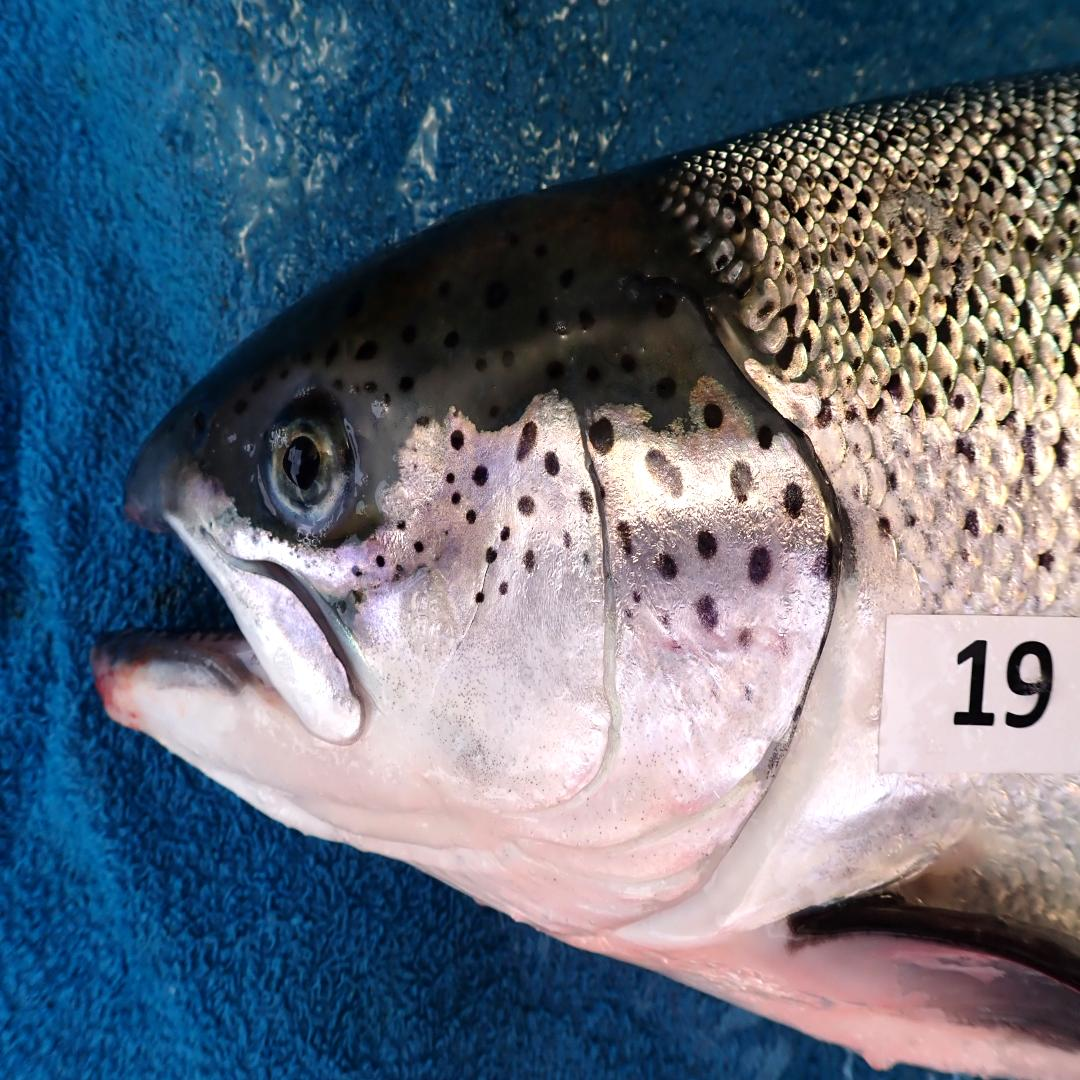roi: (355, 379, 835, 944)
